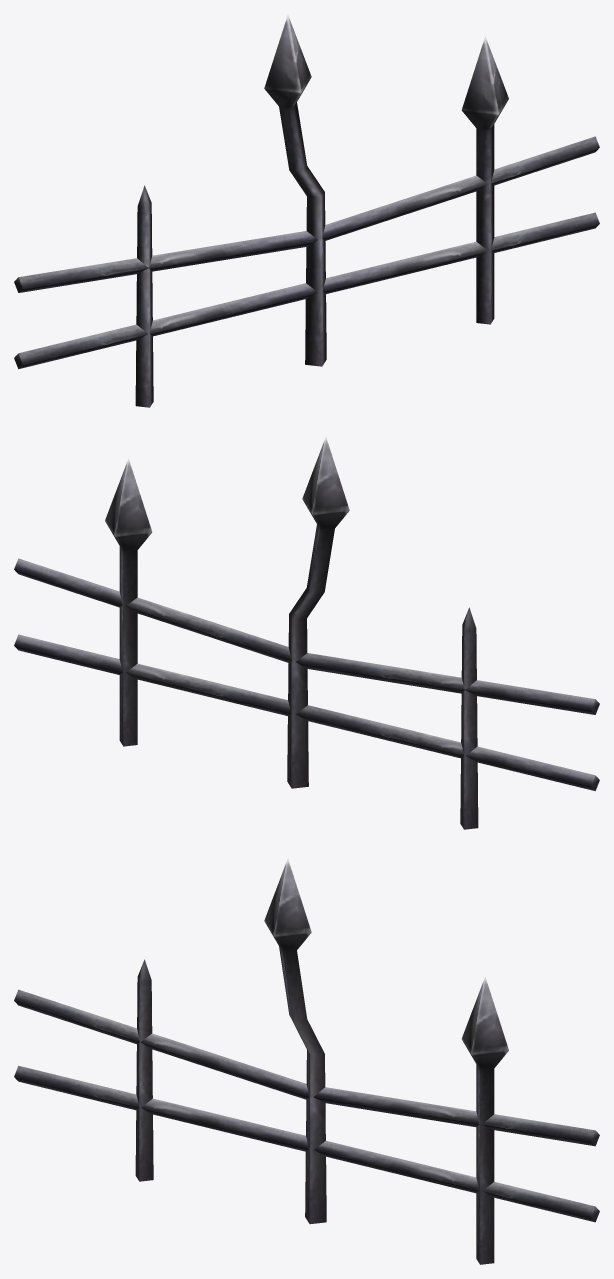
Rendered from tiezhalan01_01.FBX.
3 views of the same model, one above another, from view 1: azimuth 30°, elevation 25°; view 2: azimuth 150°, elevation 25°; view 3: azimuth 330°, elevation 25° (orthographic).
Parts seen in each view (by area): view 1: tiezhalan01_01; view 2: tiezhalan01_01; view 3: tiezhalan01_01.
Part boxes in pixels (x1=…): tiezhalan01_01: x1=14, y1=15, x2=599, y2=407; tiezhalan01_01: x1=14, y1=437, x2=599, y2=829; tiezhalan01_01: x1=14, y1=859, x2=599, y2=1264.
Bounding box in the file's own units: 396 × 233 × 32.64.
1 material, 1 textured.
